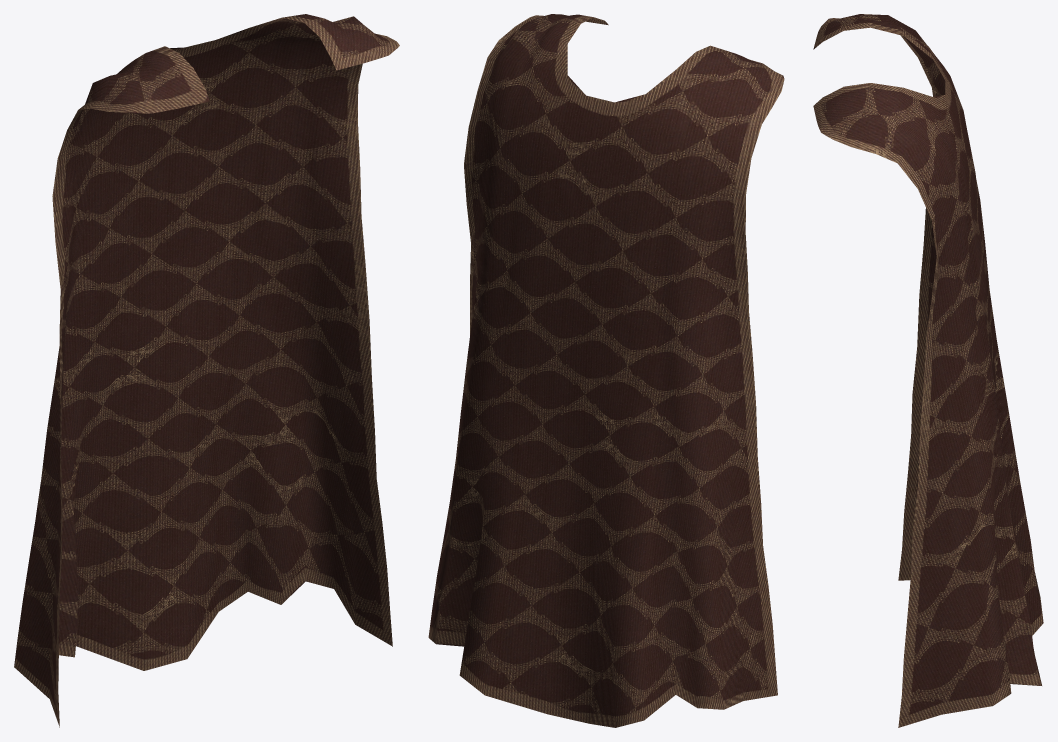
Rendered from clo_sk_dwarf_dain_pauldron_heavy_d.fbx.
The picture shows the model from 3 angles, left to right: view 1: azimuth 30°, elevation 25°; view 2: azimuth 150°, elevation 25°; view 3: azimuth 270°, elevation 25°; orthographic projection. The views are drawn at different scales.
Visible parts, largest first — view 1: clo_sk_dwarf_dain_pauldron_heavy_d; view 2: clo_sk_dwarf_dain_pauldron_heavy_d; view 3: clo_sk_dwarf_dain_pauldron_heavy_d.
Part boxes in pixels (x1,y1,x2,y2): clo_sk_dwarf_dain_pauldron_heavy_d: [14, 14, 399, 727]; clo_sk_dwarf_dain_pauldron_heavy_d: [428, 14, 784, 727]; clo_sk_dwarf_dain_pauldron_heavy_d: [813, 14, 1043, 727].
Bounding box in the file's own units: 0.6159 × 0.4068 × 1.21.
1 material, 1 textured.
